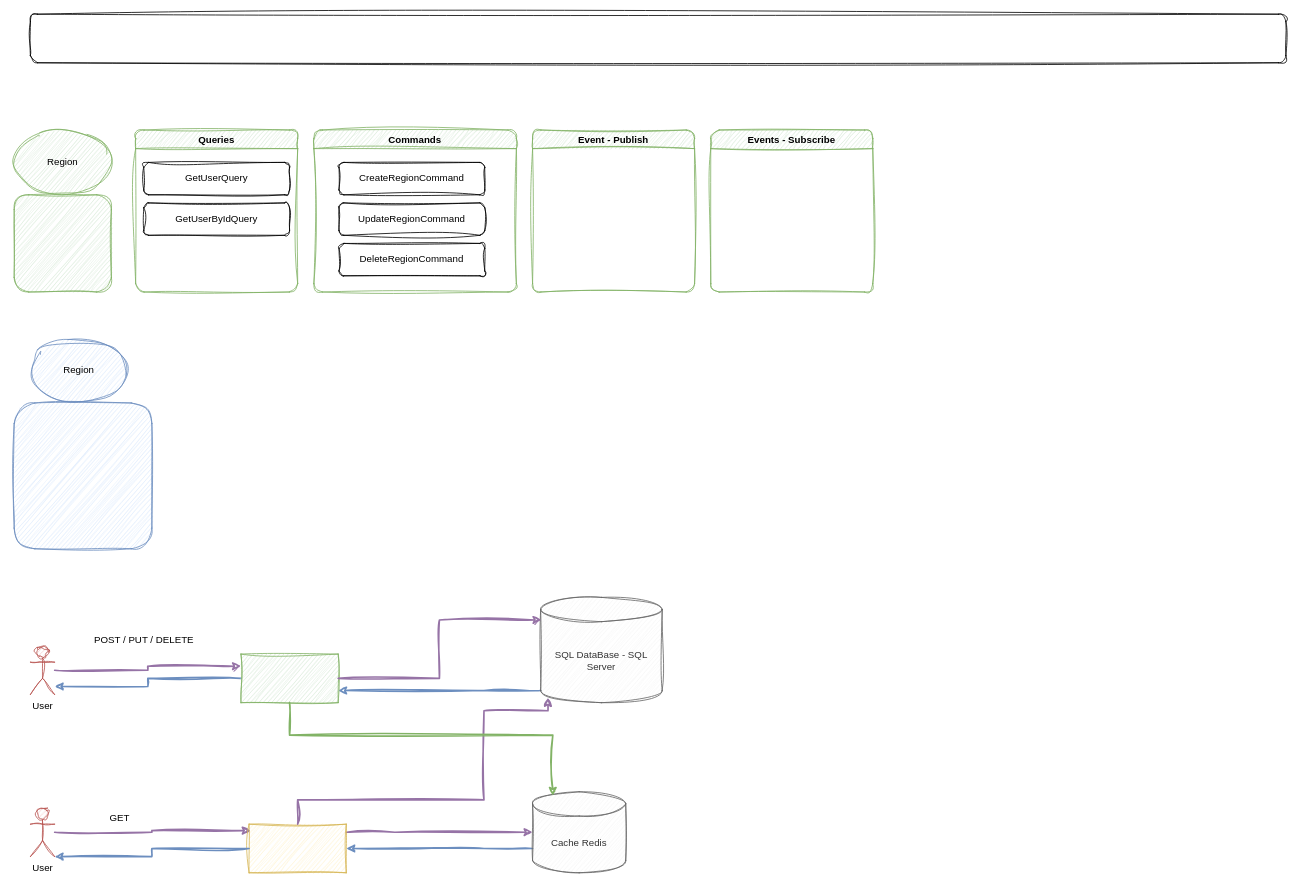
This 1300x888 diagram has some shape labels left out. The centre of each missing label's shape, as x and y in pixels:
"Command" goes at (x=289, y=678).
"Criação de Region" goes at (x=62, y=243).
"Definir Papeis e responsabilidades para os contextos delimitados" goes at (x=658, y=38).
"Query Handler" goes at (x=297, y=848).
"Region Aggregate RegionName" goes at (x=82, y=475).
